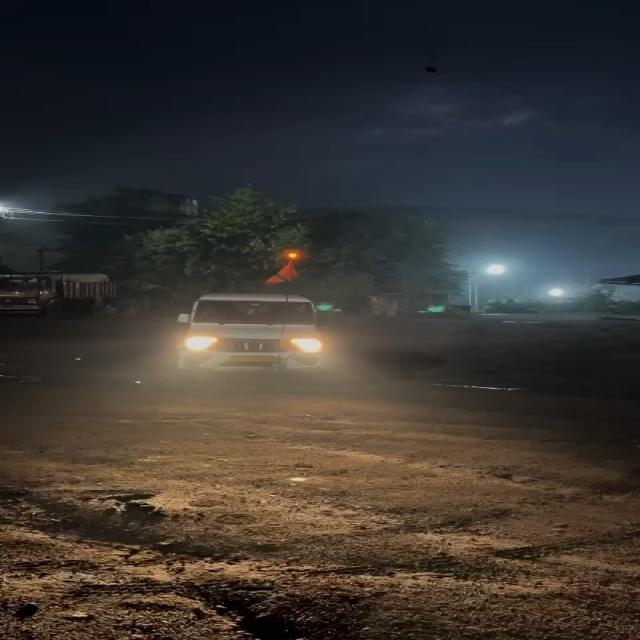light_vehicle: (179, 297, 330, 378)
